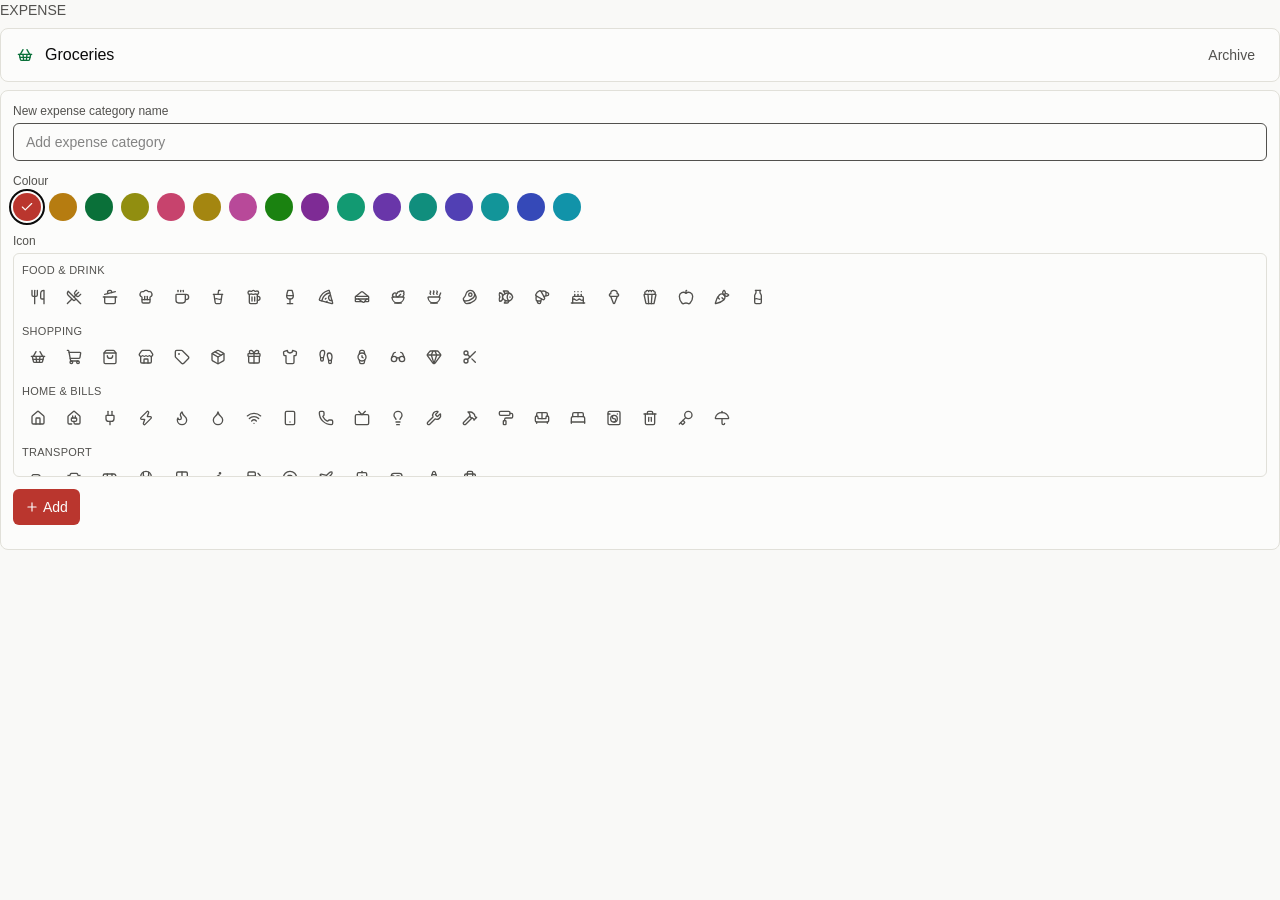
Test: CategorySection — editing a category › opens an editor named after the category, seeded from it
Click the button with aria-label "Edit Groceries": x=80, y=54 [45, 43, 1188, 67]
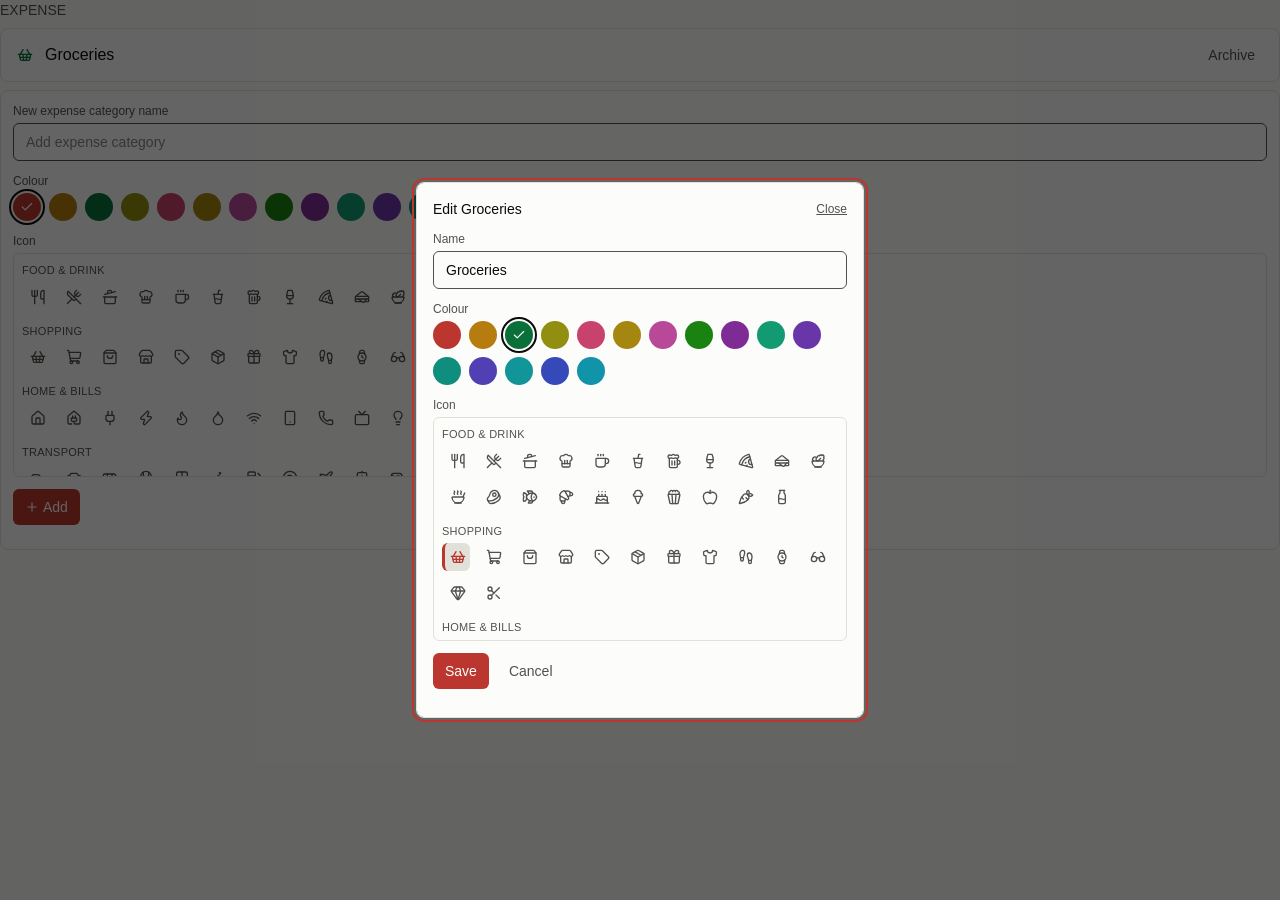
Result: the heading "Edit Groceries" is shown at [433, 199, 522, 219]
Result: the field labelled "Name" holds "Groceries" at [433, 251, 847, 289]
Result: the radio button named "Colour 3" is checked at [505, 321, 533, 349]
